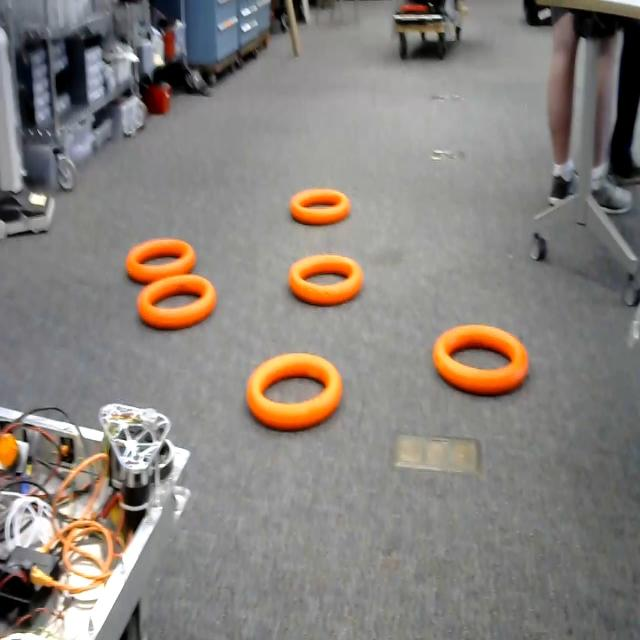note: (240, 356, 348, 429), (433, 322, 534, 395), (286, 254, 370, 306), (139, 281, 216, 333), (285, 181, 356, 229), (124, 235, 202, 274)
